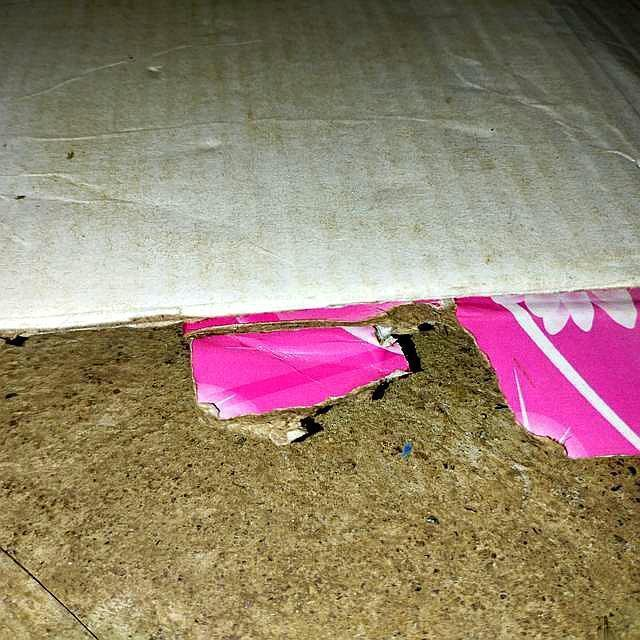Biodegradable: (1, 3, 640, 463)
